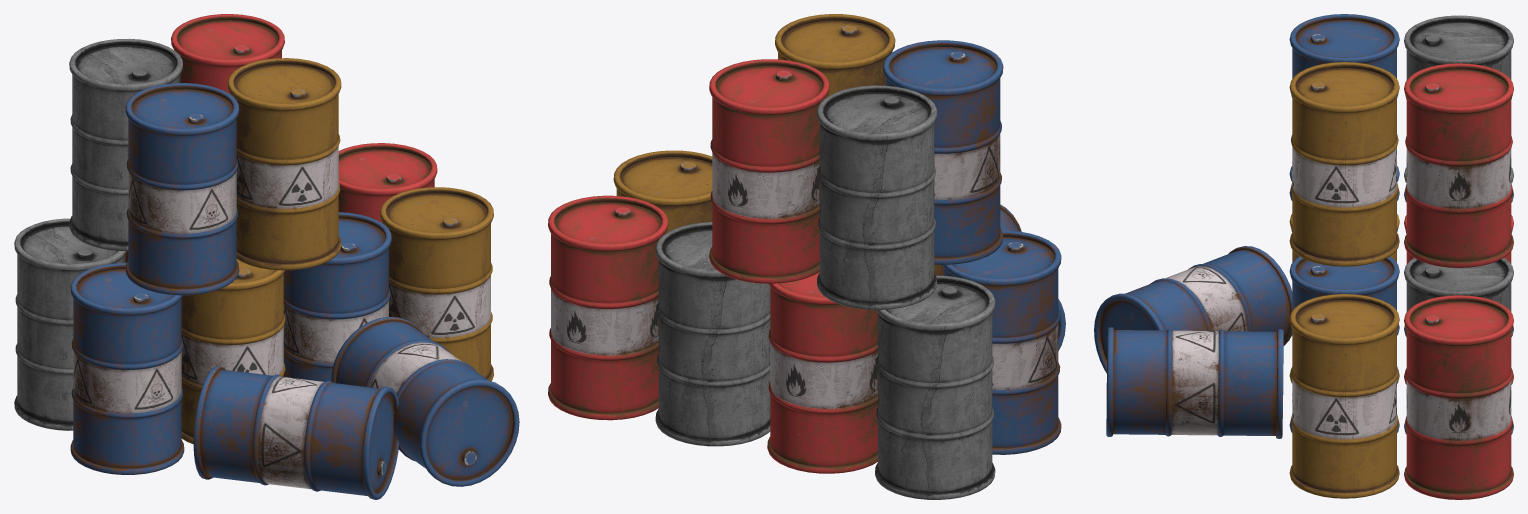
File: Garbage4.fbx
The picture shows the model from 3 angles, left to right: view 1: azimuth 30°, elevation 25°; view 2: azimuth 150°, elevation 25°; view 3: azimuth 270°, elevation 25°; orthographic projection. The views are drawn at different scales.
Visible parts, largest first — view 1: Cylinder.007, Cylinder.011, Cylinder2, Cylinder.004, Cylinder.010, Cylinder, Cylinder.008, Cylinder.005, Cylinder.001, Cylinder1, Cylinder.009, Cylinder.002; view 2: Cylinder.008, Cylinder.009, Cylinder.002, Cylinder.005, Cylinder.003, Cylinder.006, Cylinder.007, Cylinder.004, Cylinder2, Cylinder, Cylinder.011; view 3: Cylinder.002, Cylinder.009, Cylinder2, Cylinder, Cylinder.010, Cylinder.011, Cylinder.008, Cylinder.007, Cylinder.003, Cylinder.001.
Boxes of the visible parts, x1,y1,x2,y2 form: Cylinder.007: (125,83,239,295); Cylinder.011: (193,366,399,499); Cylinder2: (227,58,341,270); Cylinder.004: (70,262,184,474); Cylinder.010: (331,317,519,486); Cylinder: (380,187,493,381); Cylinder.008: (69,38,182,250); Cylinder.005: (14,218,126,430); Cylinder.001: (283,212,391,381); Cylinder1: (181,259,285,444); Cylinder.009: (171,14,284,93); Cylinder.002: (338,143,437,223); Cylinder.008: (817,85,937,309); Cylinder.009: (709,59,829,283); Cylinder.002: (548,195,668,420); Cylinder.005: (875,275,995,499); Cylinder.003: (655,222,770,446); Cylinder.006: (767,272,877,473); Cylinder.007: (883,40,1003,264); Cylinder.004: (942,230,1061,454); Cylinder2: (775,14,895,96); Cylinder: (613,150,712,233); Cylinder.011: (1000,204,1065,350); Cylinder.002: (1404,295,1513,499); Cylinder.009: (1404,63,1513,267); Cylinder2: (1289,62,1399,266); Cylinder: (1289,294,1399,498); Cylinder.010: (1106,327,1283,438); Cylinder.011: (1094,246,1292,373); Cylinder.008: (1404,15,1513,202); Cylinder.007: (1289,14,1399,200); Cylinder.003: (1404,258,1513,434); Cylinder.001: (1289,256,1399,432).
Size of the model in its own units: 229 by 177 by 210.
